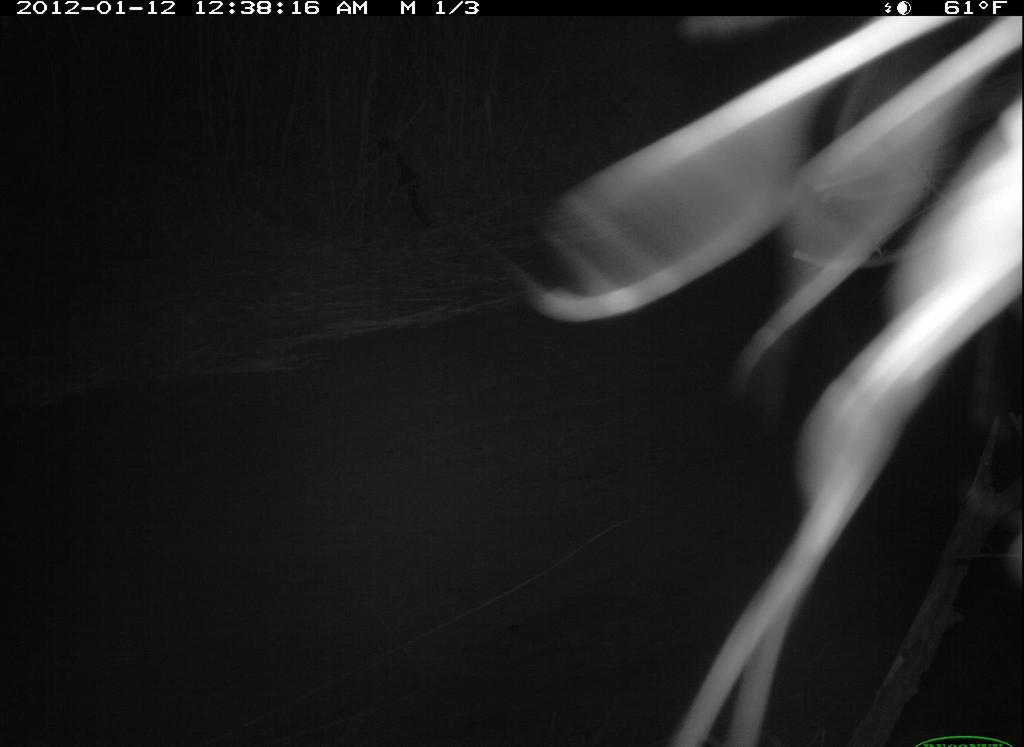raccoon: (496, 2, 1023, 747)
